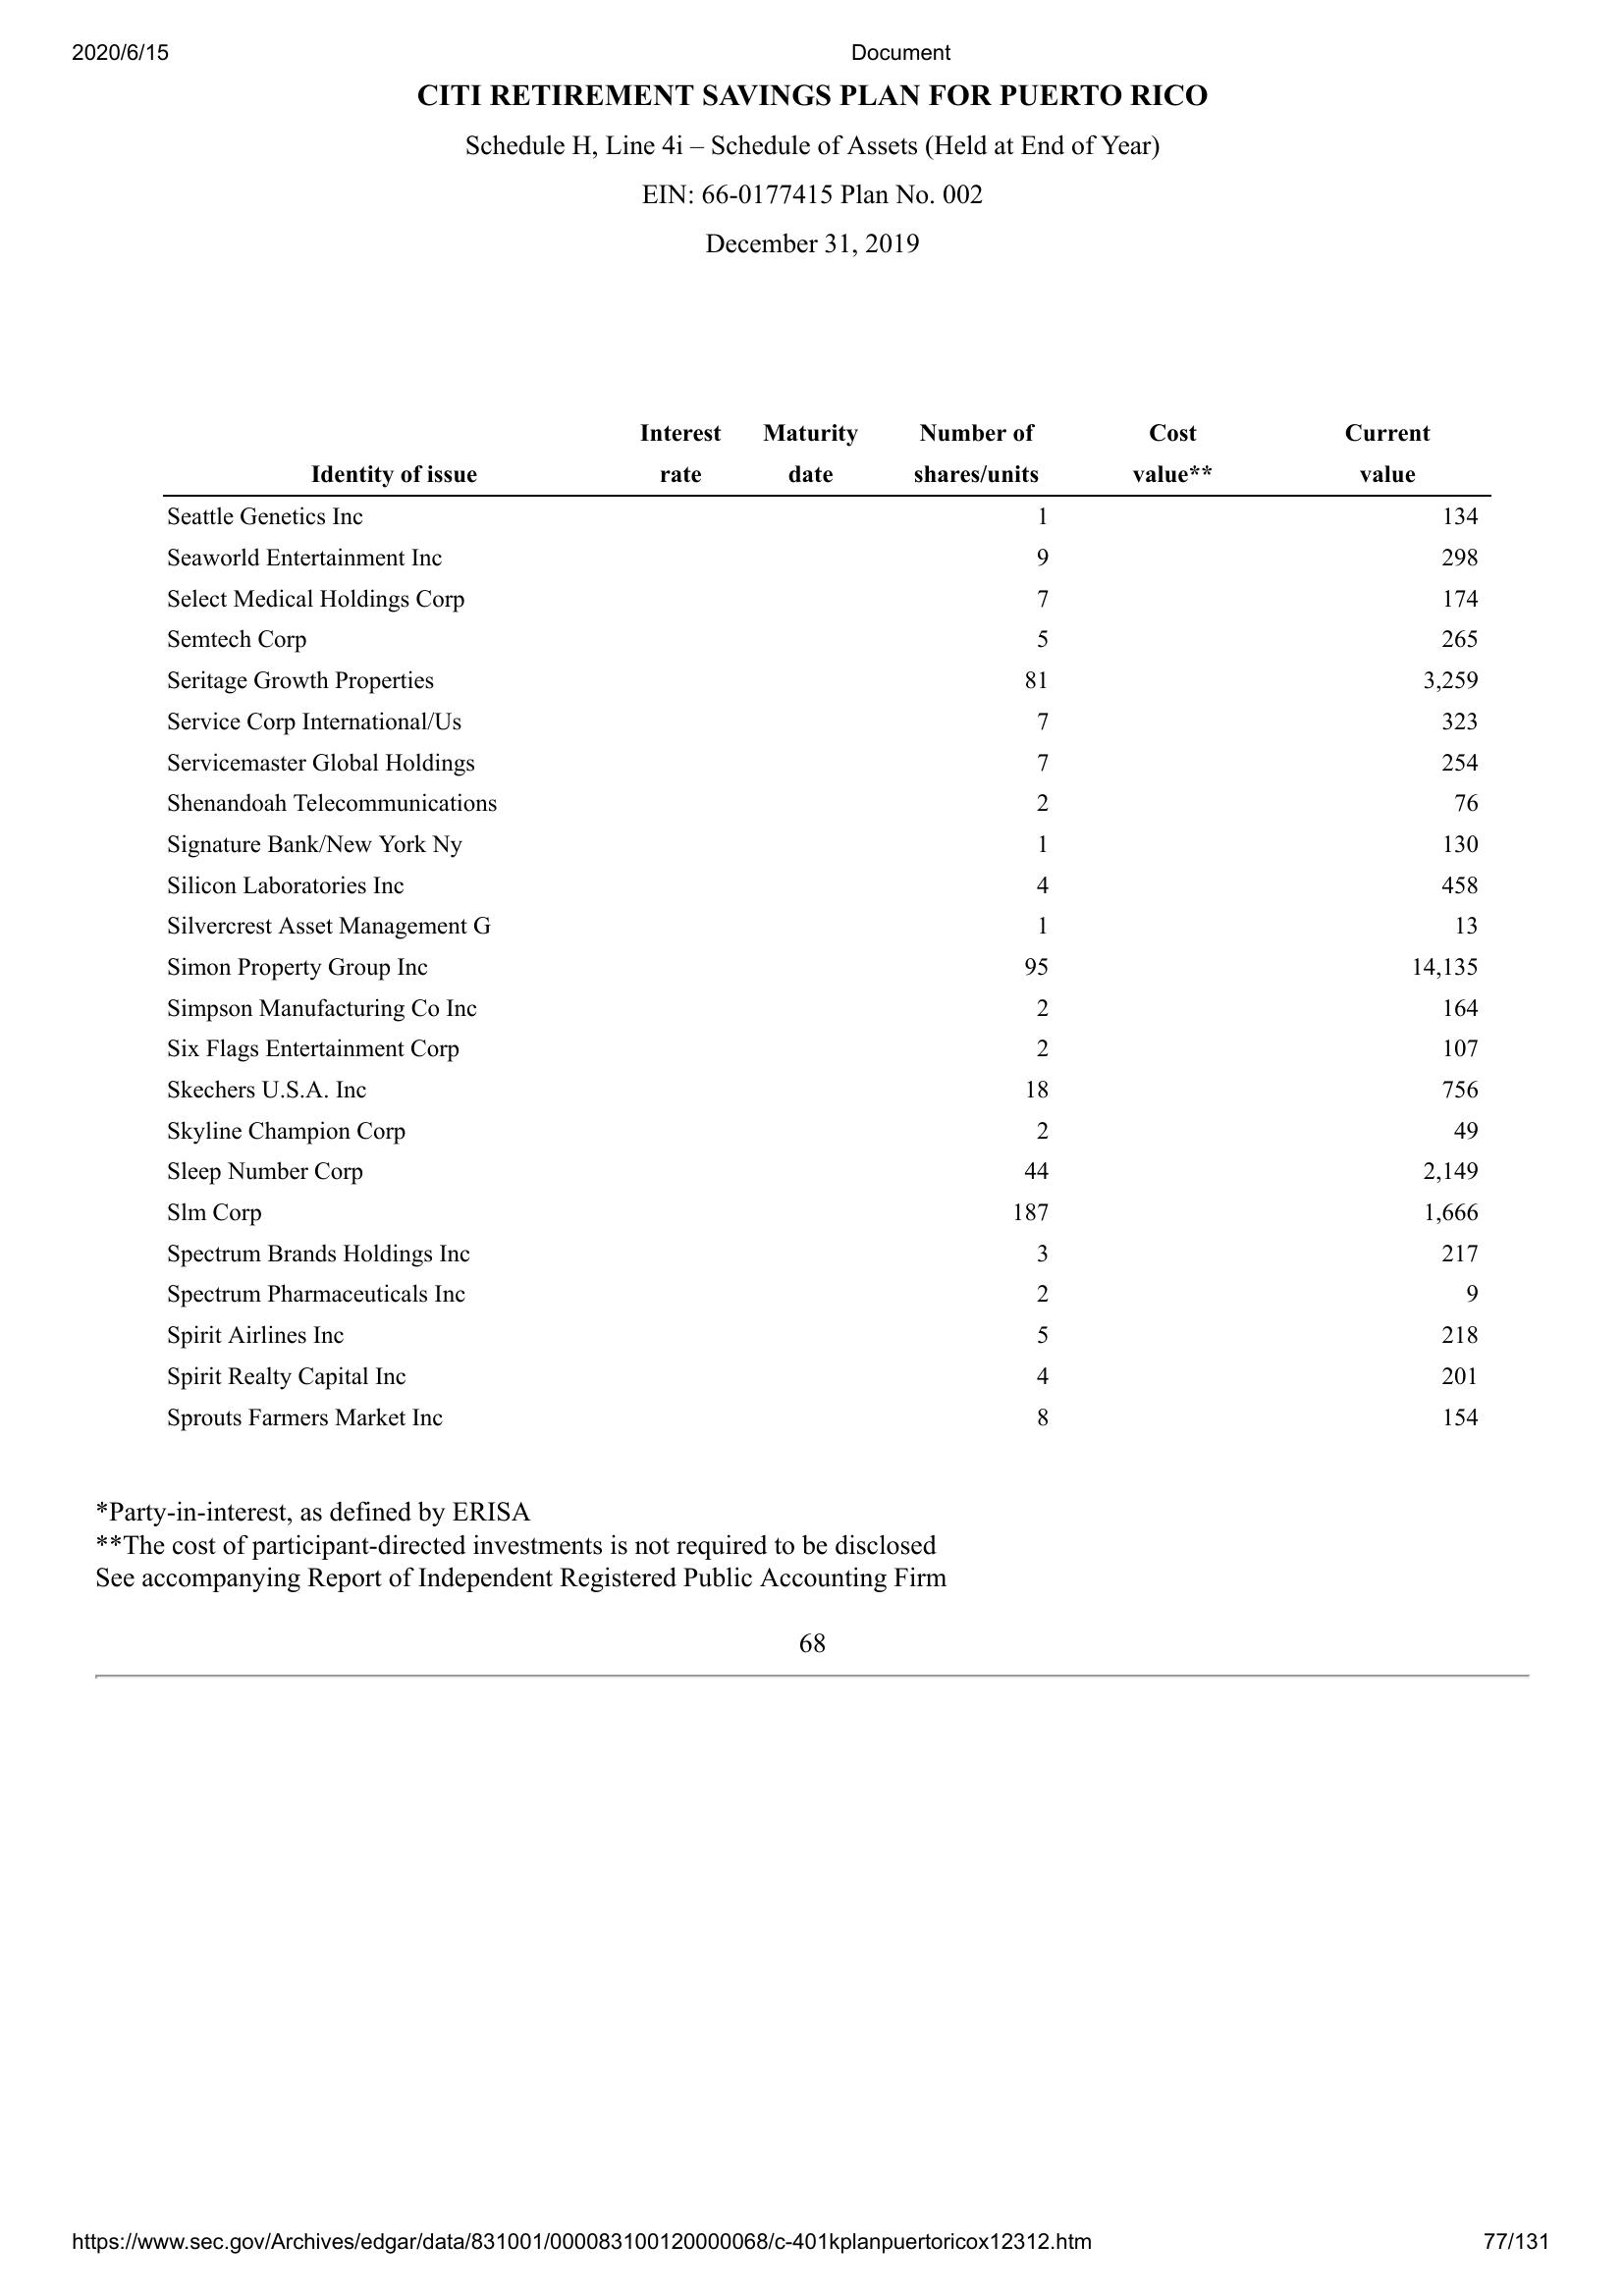table: (163, 418, 1495, 1432)
